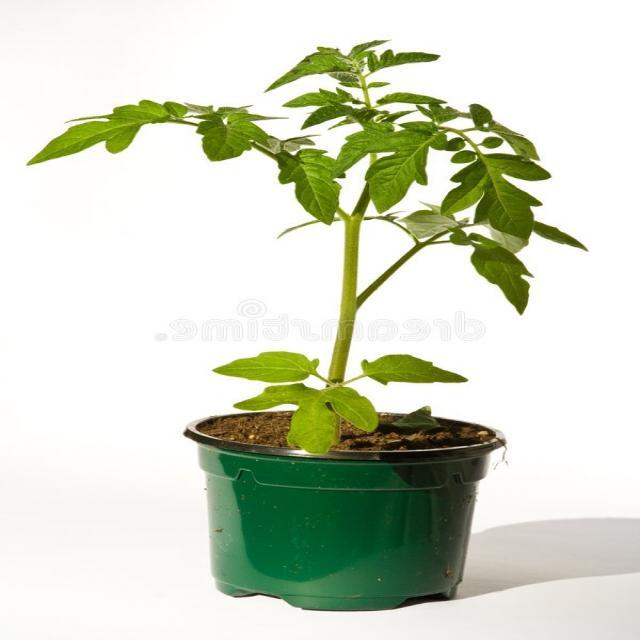tomato: (25, 40, 588, 457)
